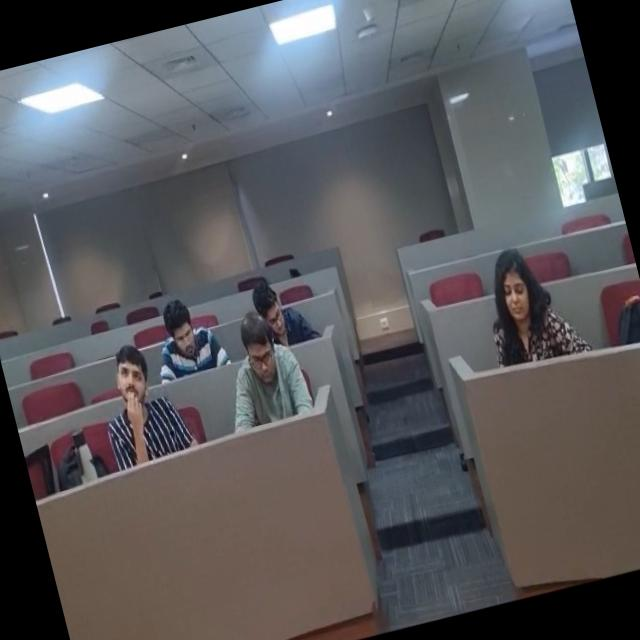cheating: (90, 328, 180, 468)
non-cheating: (474, 243, 569, 368), (216, 307, 306, 431), (138, 278, 226, 390), (243, 273, 314, 348)
